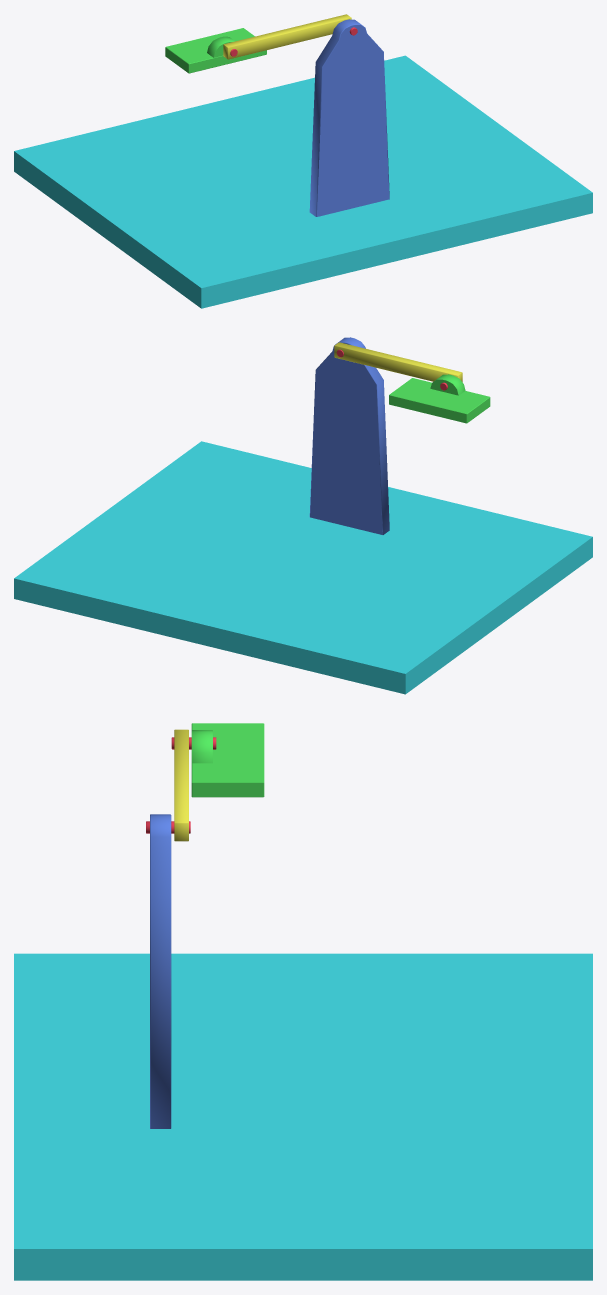
Rendered from hinge-test.glb.
The picture shows the model from 3 angles, top to bottom: view 1: azimuth 30°, elevation 25°; view 2: azimuth 150°, elevation 25°; view 3: azimuth 270°, elevation 25°; orthographic projection. The views are drawn at different scales.
Parts seen in each view (by area): view 1: floor, base, platform, arm; view 2: floor, base, platform, arm; view 3: floor, base, platform, arm.
Boxes of the visible parts, x1,y1,x2,y2 form: floor: [14, 55, 592, 308]; base: [309, 19, 389, 216]; platform: [165, 28, 266, 73]; arm: [223, 14, 351, 59]; floor: [14, 441, 592, 694]; base: [309, 337, 389, 534]; platform: [389, 374, 490, 423]; arm: [334, 342, 462, 381]; floor: [14, 953, 592, 1280]; base: [150, 814, 171, 1128]; platform: [191, 723, 264, 797]; arm: [174, 729, 188, 841].
Size of the model in its own units: 9.99 by 4.97 by 8.28.
